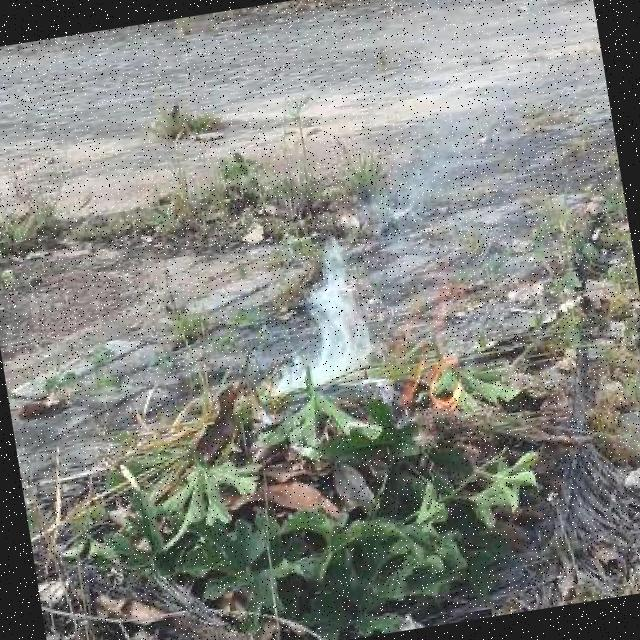Fire: (421, 350, 474, 414)
Smoke: (268, 235, 385, 398)
